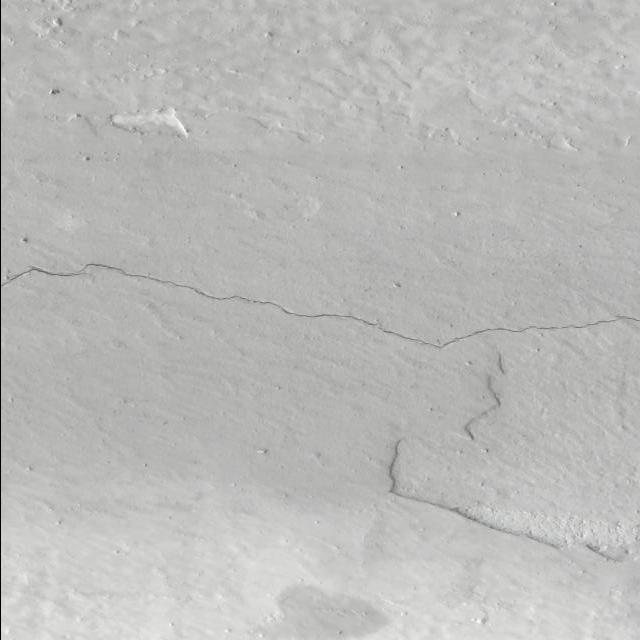SurfaceCrack: (350, 424, 639, 586)
